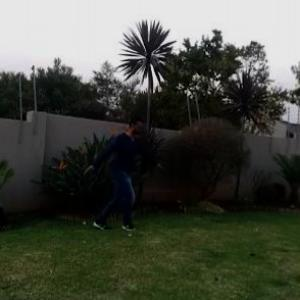land: (57, 99, 179, 248)
